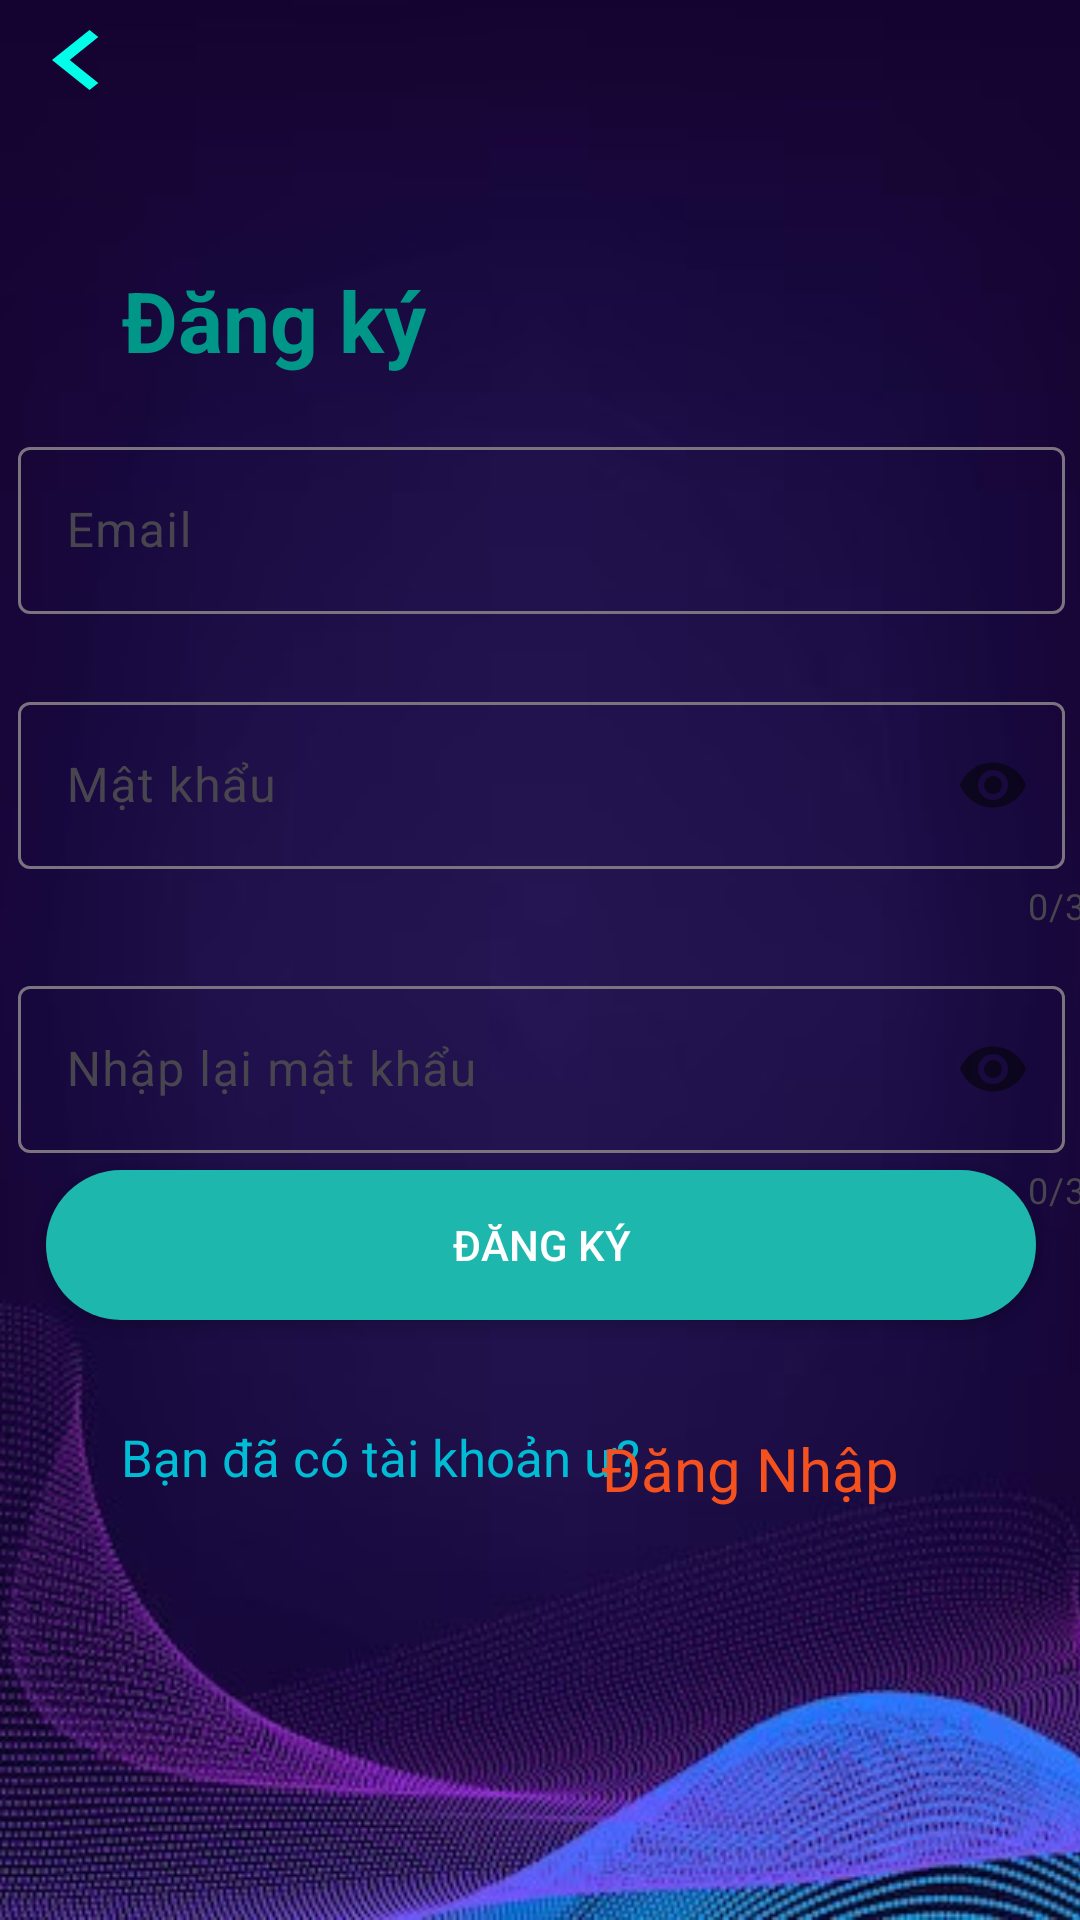

Icon bounding boxes for this 1080 x 1920 phone screenshot, format [x1=x1, y1=y1, x2=x2, y2=y2]:
chevron left: [x1=52, y1=30, x2=98, y2=90]
